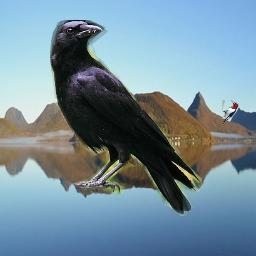Crow: (50, 20, 202, 216)
Woodpecker: (220, 100, 239, 125)
